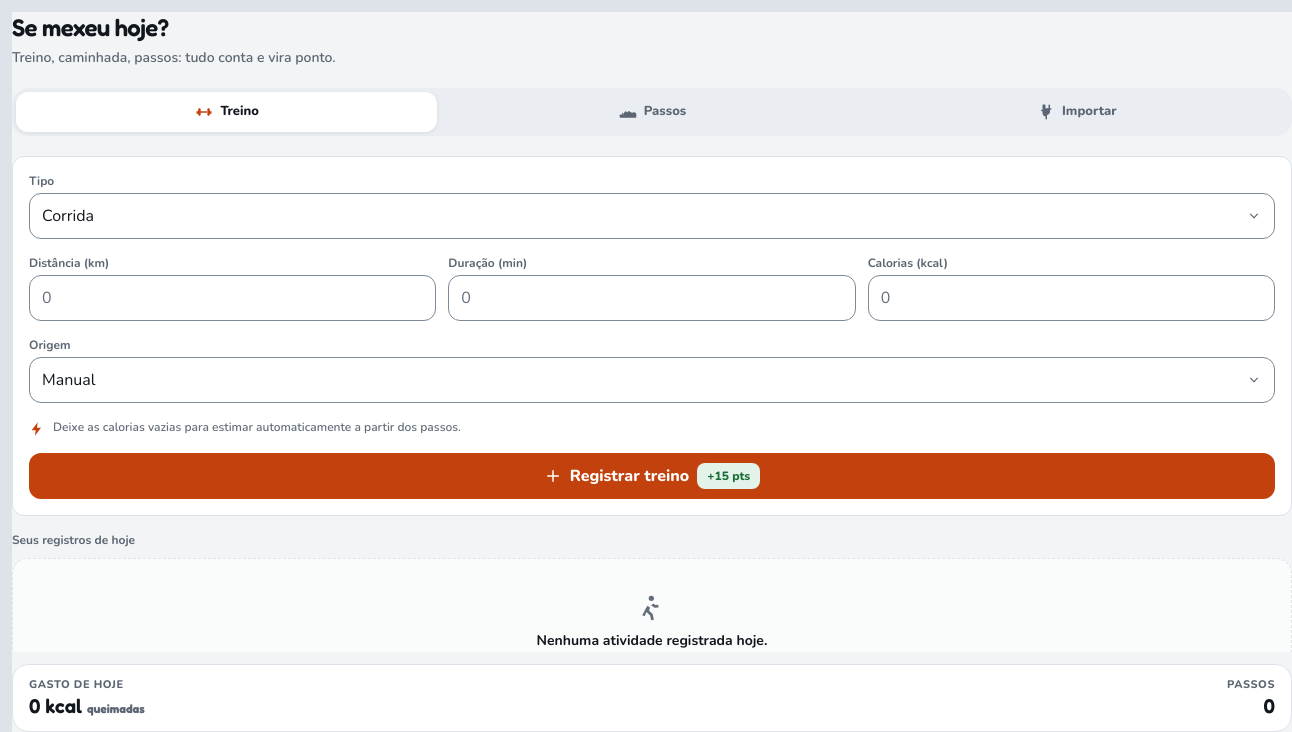
Test case: ActivityPage workout form › refuses a workout with no measure at all
This screenshot has width=1292, height=732.
expect the number field labelled "Distância (km)" is shown: met, box [29,275,436,321]
Click the button "Registrar treino +15 pts": (652, 476) [29,453,1275,499]
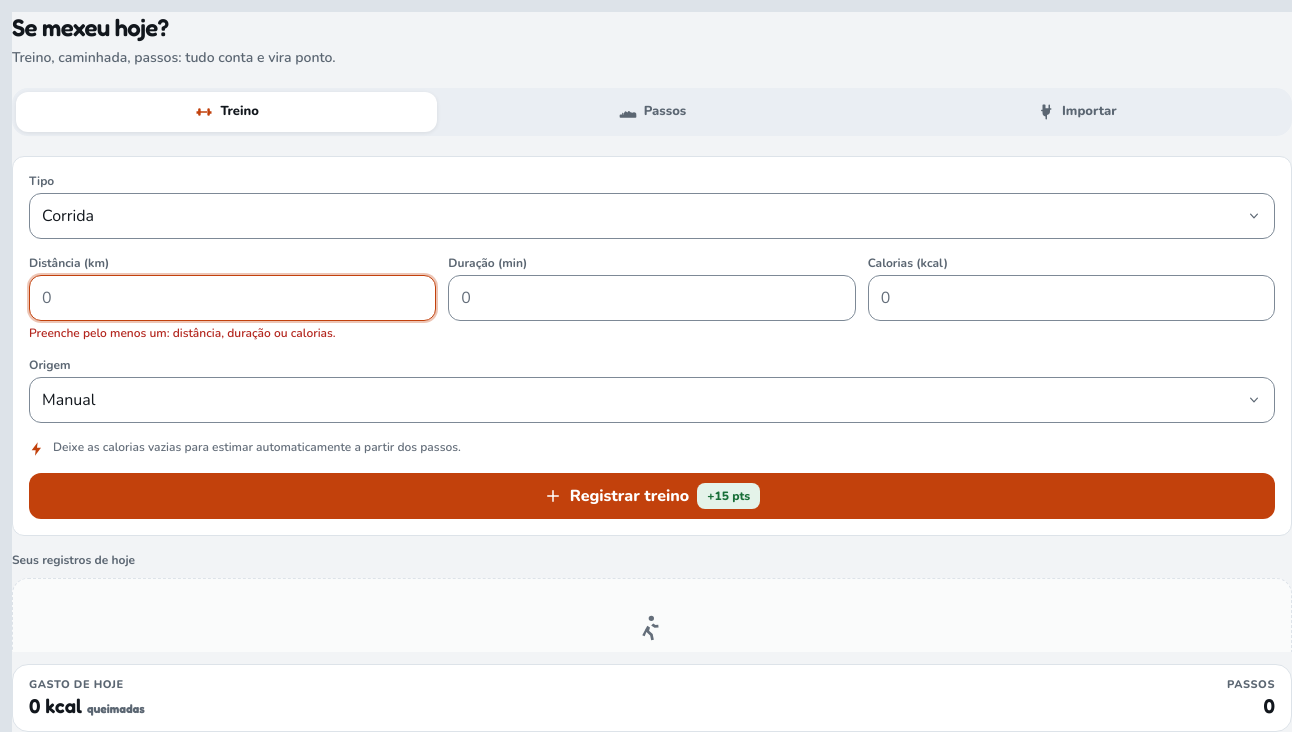
expect the message reads "Preenche pelo menos um: distância, duração ou calorias.": met, box [29,325,336,341]
